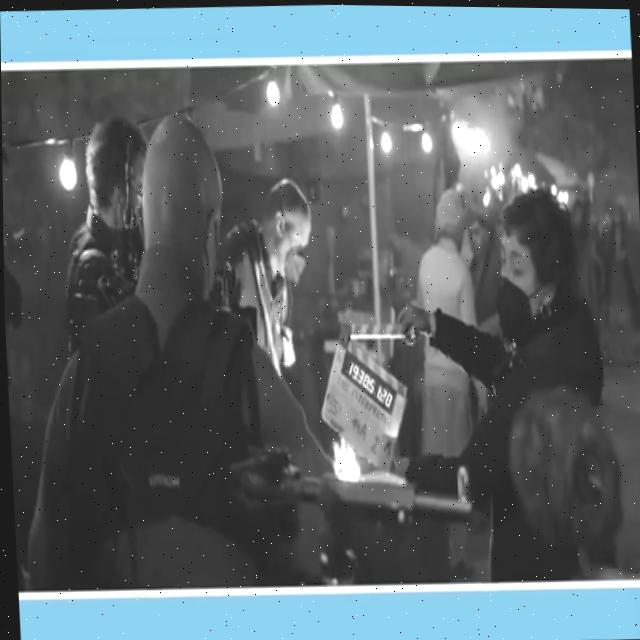Clapperboard: (313, 313, 423, 476)
